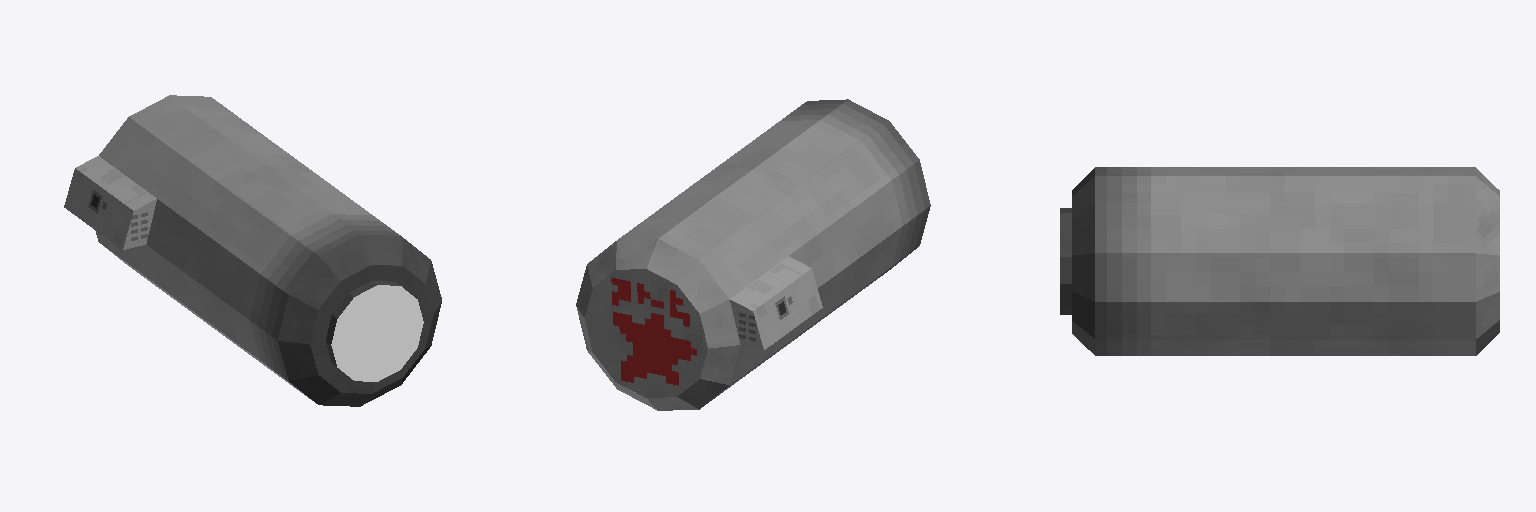
3 views of the same model, side by side, from view 1: azimuth 30°, elevation 25°; view 2: azimuth 150°, elevation 25°; view 3: azimuth 270°, elevation 25° (orthographic).
Visible parts, largest first — view 1: Circle; view 2: Circle; view 3: Circle.
Boxes of the visible parts, x1,y1,x2,y2 form: Circle: [64, 95, 441, 406]; Circle: [576, 99, 930, 410]; Circle: [1060, 167, 1499, 355].
Bounding box in the file's own units: 2.29 × 2 × 4.62.
1 materials, 1 textured.